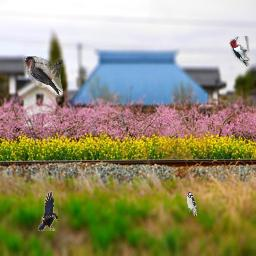Crow: (38, 191, 58, 231)
Swallow: (23, 56, 63, 95)
Woodpecker: (229, 36, 250, 67), (186, 192, 197, 216)
